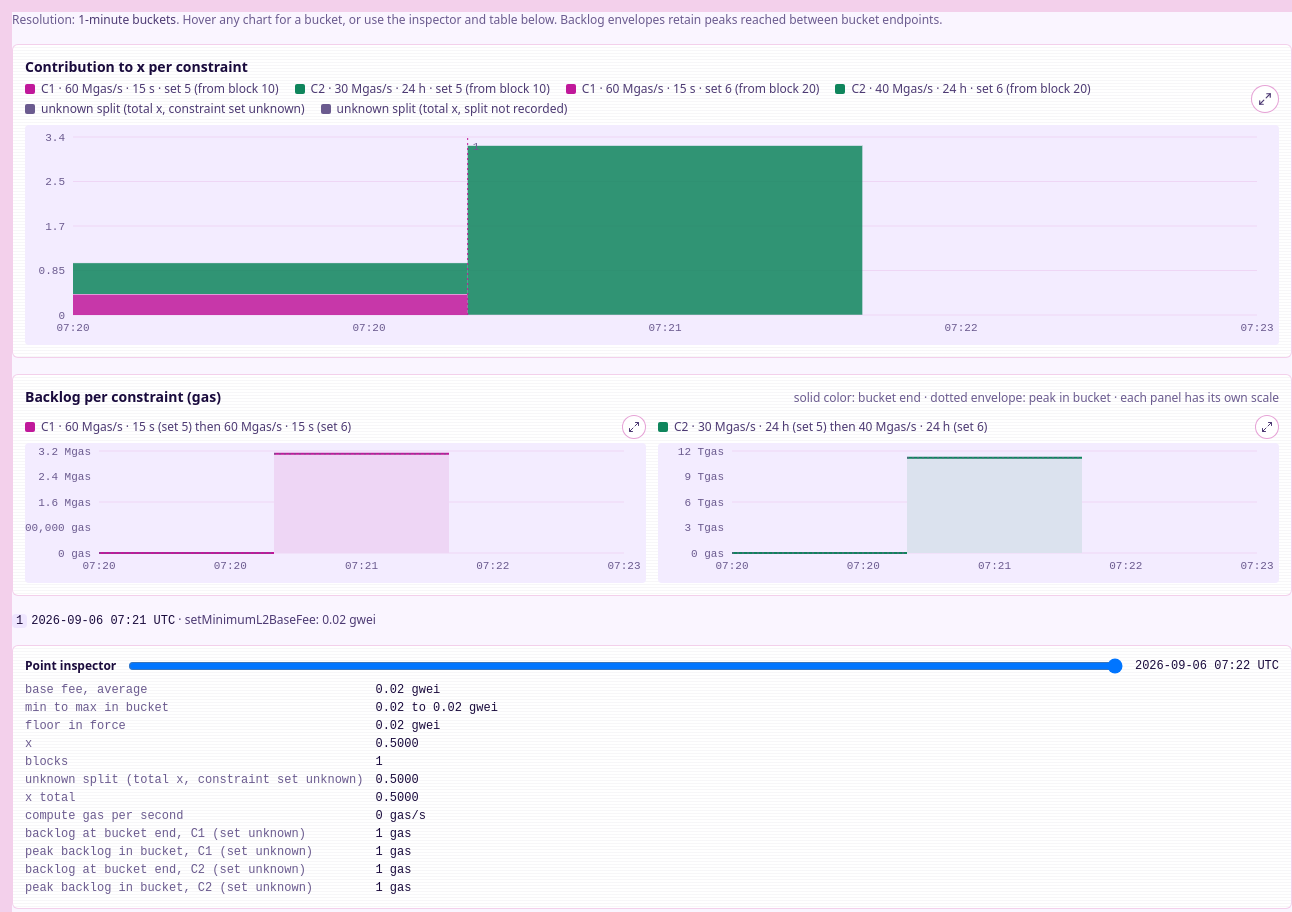
Test: SeriesCharts › never reads a null split as a zero contribution, and never contradicts itself in the same readout
Set the slider named "Select a bucket" to "0" at (136, 666), box [128,658,1123,674]
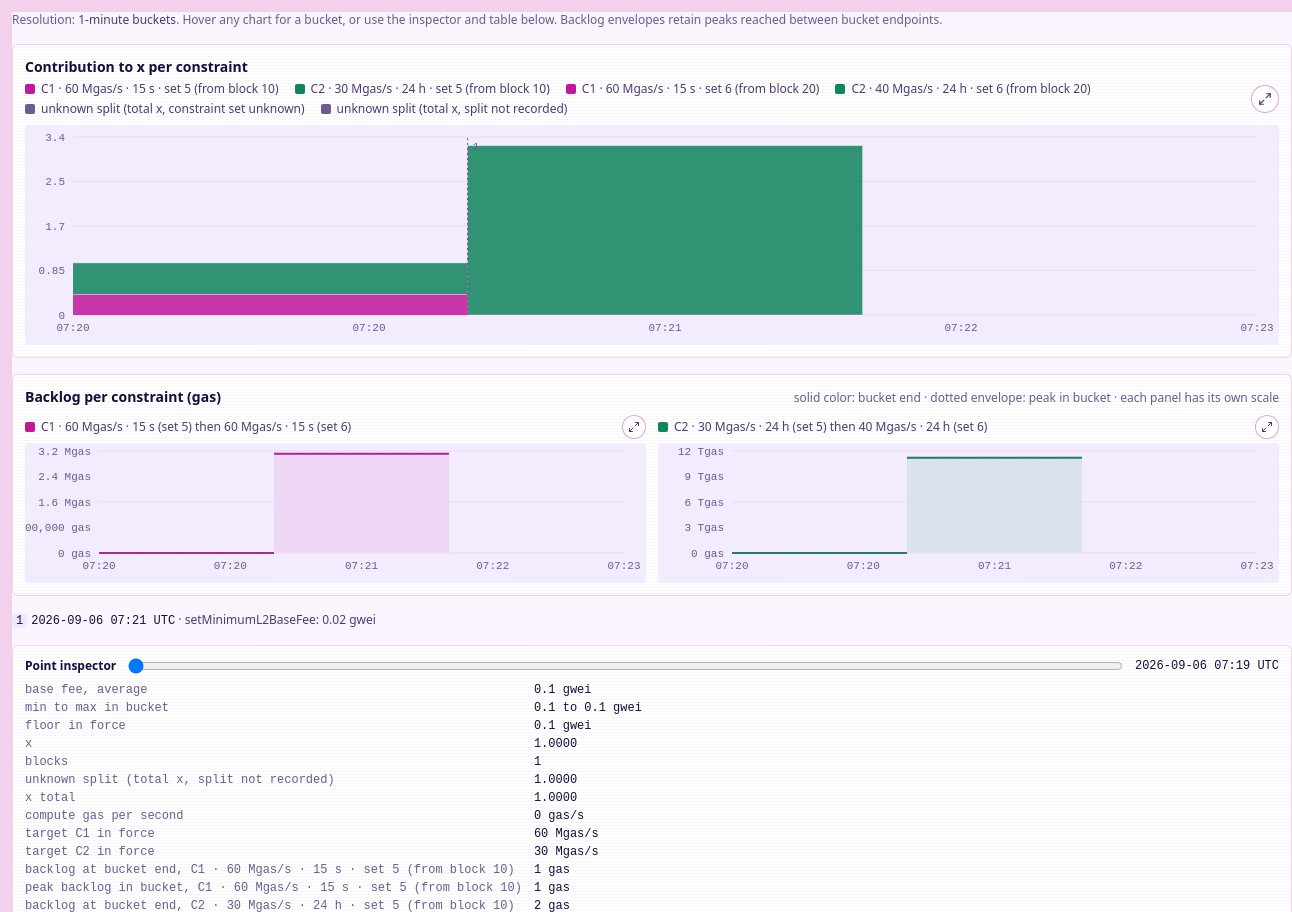
Expected: the text "unknown split (total x, split not recorded)" below "blocks" is shown, [25,773,335,787]
// The bucket next to it, with a recorded split, still lists every constraint.
Set the slider named "Select a bucket" to "1" at (463, 666), box [128,658,1123,674]
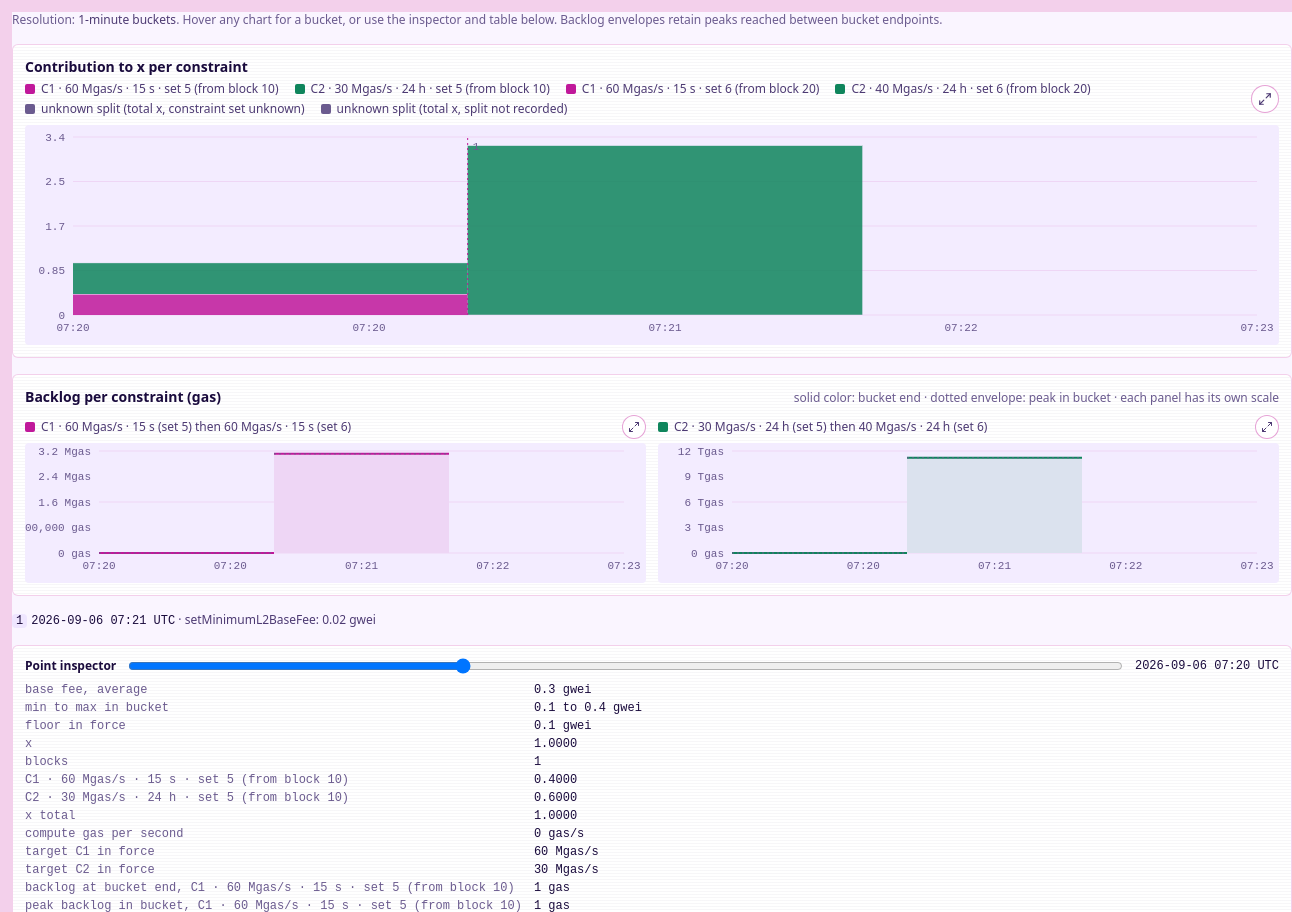
Expected: the text "C1 · 60 Mgas/s · 15 s · set 5 (from block 10)" next to "0.4000" is shown, [25,773,349,787]
